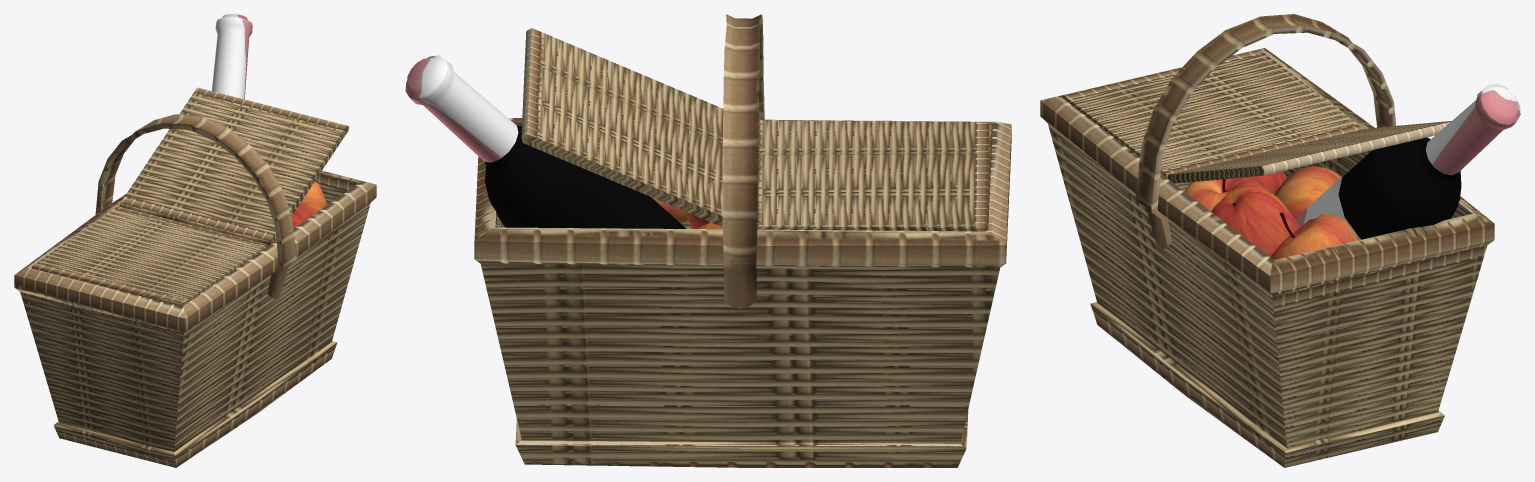
File: basket.gltf
3 renders of one model, left to right at view 1: azimuth 30°, elevation 25°; view 2: azimuth 150°, elevation 25°; view 3: azimuth 270°, elevation 25°, orthographic. The views are drawn at different scales.
Visible parts, largest first — view 1: polySurface2; view 2: polySurface2; view 3: polySurface2.
Boxes of the visible parts, x1,y1,x2,y2 form: polySurface2: [14, 14, 376, 467]; polySurface2: [405, 14, 1011, 467]; polySurface2: [1040, 14, 1520, 467].
Bounding box in the file's own units: 11.37 × 8.6 × 10.11.
5 materials, 4 textured.
